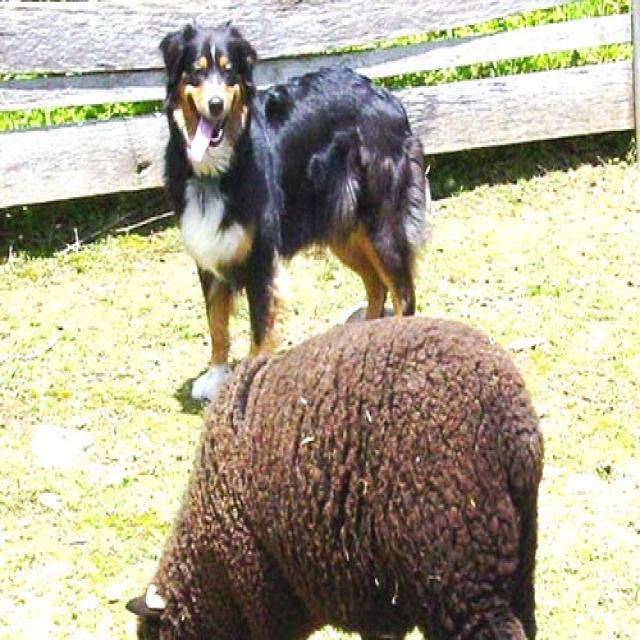dog: (156, 19, 430, 399)
sheep: (125, 315, 544, 639)
